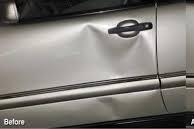dent: (68, 19, 165, 120)
